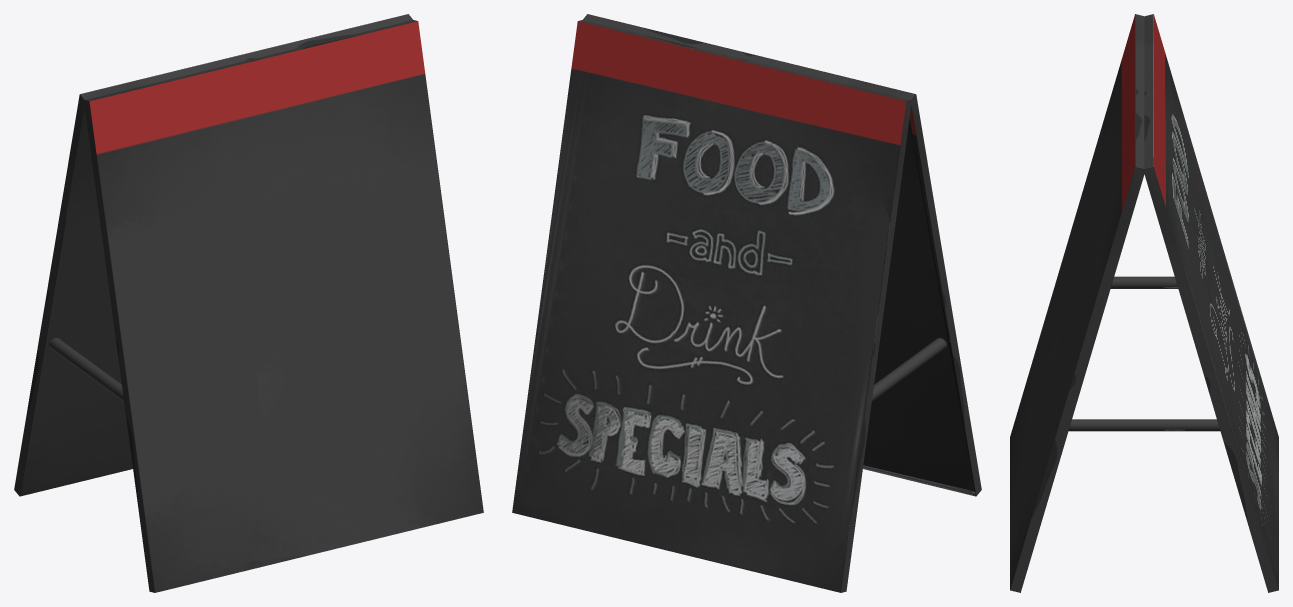
Rendered from Menu_board.fbx.
3 views of the same model, side by side, from view 1: azimuth 30°, elevation 25°; view 2: azimuth 150°, elevation 25°; view 3: azimuth 270°, elevation 25° (orthographic). The views are drawn at different scales.
Visible parts, largest first — view 1: Menu_board; view 2: Menu_board; view 3: Menu_board.
Part boxes in pixels (x1=…): Menu_board: x1=14, y1=14, x2=483, y2=592; Menu_board: x1=512, y1=14, x2=981, y2=592; Menu_board: x1=1010, y1=14, x2=1278, y2=592.
Size of the model in its own units: 345 by 447 by 256.
